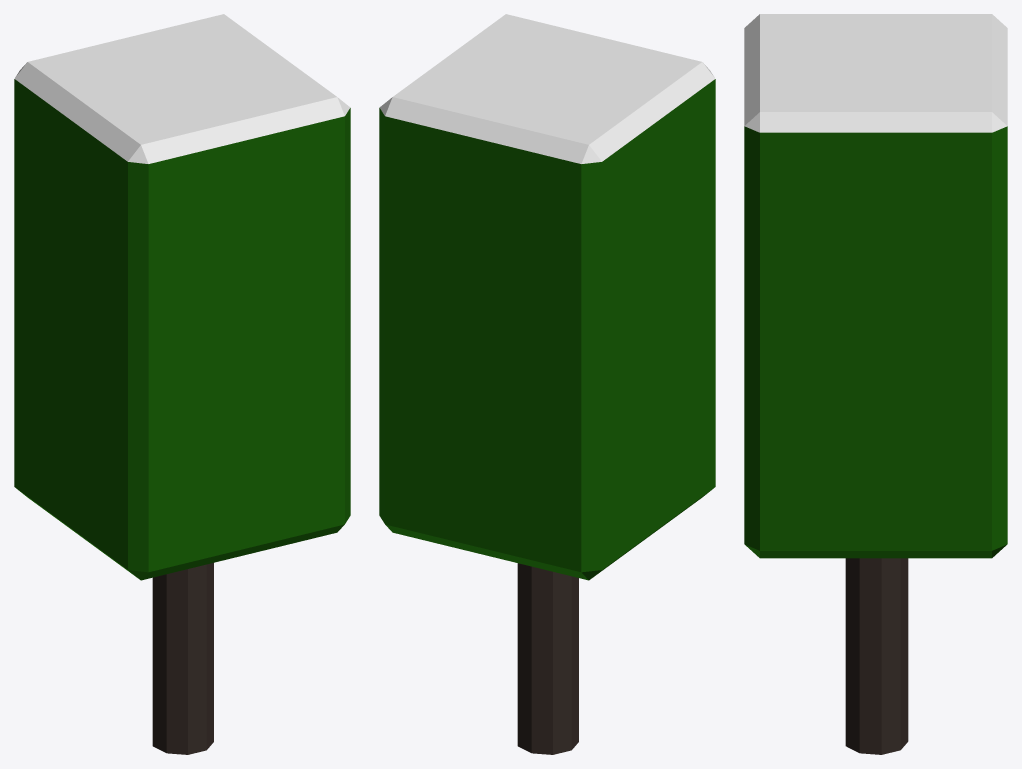
Rendered from Simple_Tree_3_Winter.fbx.
3 renders of one model, left to right at view 1: azimuth 30°, elevation 25°; view 2: azimuth 150°, elevation 25°; view 3: azimuth 270°, elevation 25°, orthographic. The views are drawn at different scales.
Visible parts, largest first — view 1: Simple_Tree_3_Winter; view 2: Simple_Tree_3_Winter; view 3: Simple_Tree_3_Winter.
Boxes of the visible parts, x1,y1,x2,y2 form: Simple_Tree_3_Winter: [14, 14, 350, 754]; Simple_Tree_3_Winter: [379, 14, 715, 754]; Simple_Tree_3_Winter: [744, 14, 1007, 754].
Bounding box in the file's own units: 242 × 688 × 242.
